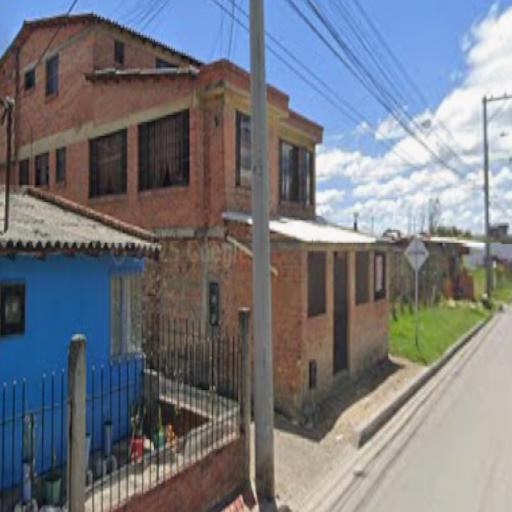poste: (243, 0, 279, 502), (478, 95, 499, 313)
